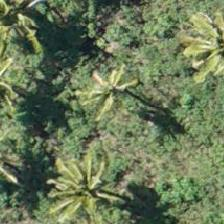coconut_tree: (68, 36, 158, 126), (39, 147, 129, 223), (171, 0, 223, 87), (0, 0, 47, 62)
